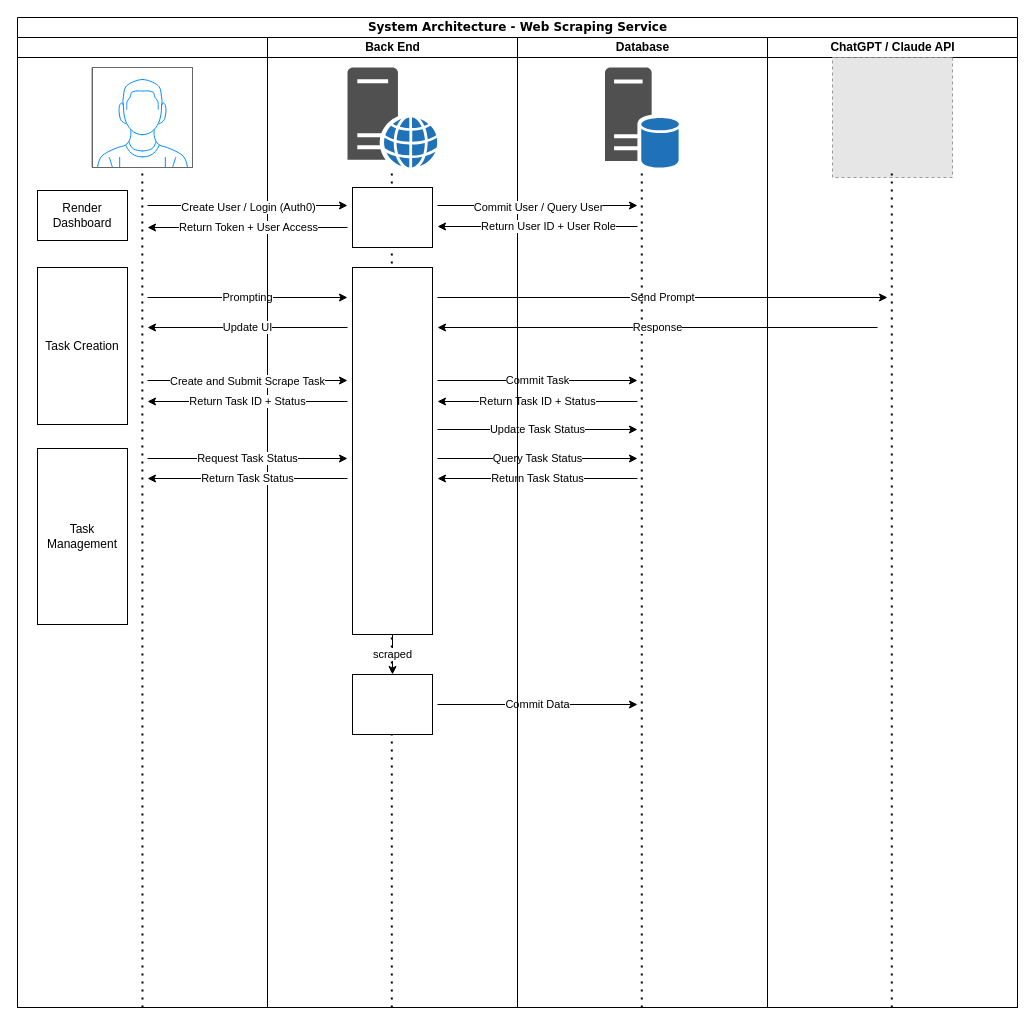
Some shapes in this 1035 by 1027 pixel diagram are drawn without their labels. Grey dashed boxes stand in for pictures. The shapes that lost their labels are listed below. From the top down, each one's box as (x1, y1, x2, y2) in pixels, then its label:
(352, 186, 432, 248): Authentication Service
(352, 266, 432, 634): Web Scrape Service
(16, 36, 268, 1008): Front End
(352, 674, 432, 734): Data Engineering Service
